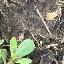Purslane: (0, 29, 37, 64)
